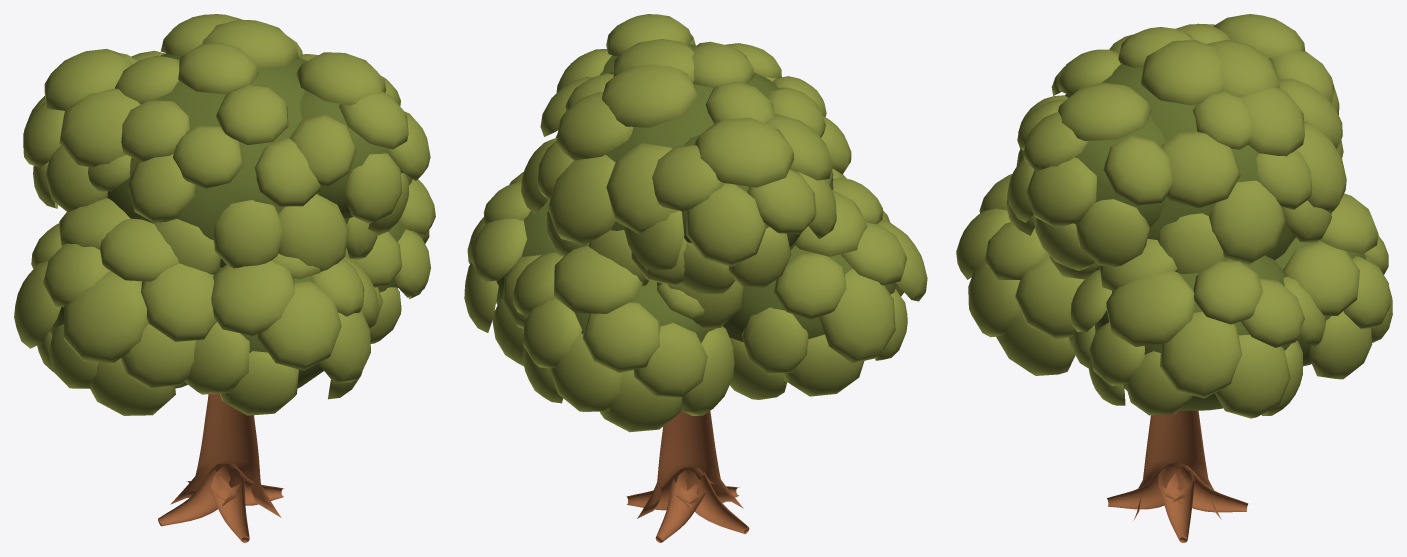
Rendered from HEARTH_TREE.glb.
3 views of the same model, side by side, from view 1: azimuth 30°, elevation 25°; view 2: azimuth 150°, elevation 25°; view 3: azimuth 270°, elevation 25° (orthographic). The views are drawn at different scales.
Visible parts, largest first — view 1: crown_leaves, crown_core, trunk; view 2: crown_leaves, crown_core, trunk; view 3: crown_leaves, crown_core, trunk.
Part boxes in pixels (bbox=[...]): crown_leaves: bbox=[14, 14, 435, 415]; crown_core: bbox=[49, 53, 411, 388]; trunk: bbox=[158, 393, 284, 542]; crown_leaves: bbox=[464, 14, 927, 432]; crown_core: bbox=[496, 44, 896, 343]; trunk: bbox=[626, 410, 749, 542]; crown_leaves: bbox=[956, 14, 1392, 418]; crown_core: bbox=[1065, 57, 1366, 410]; trunk: bbox=[1107, 410, 1248, 542].
Bounding box in the file's own units: 19.91 × 22.08 × 18.3.
